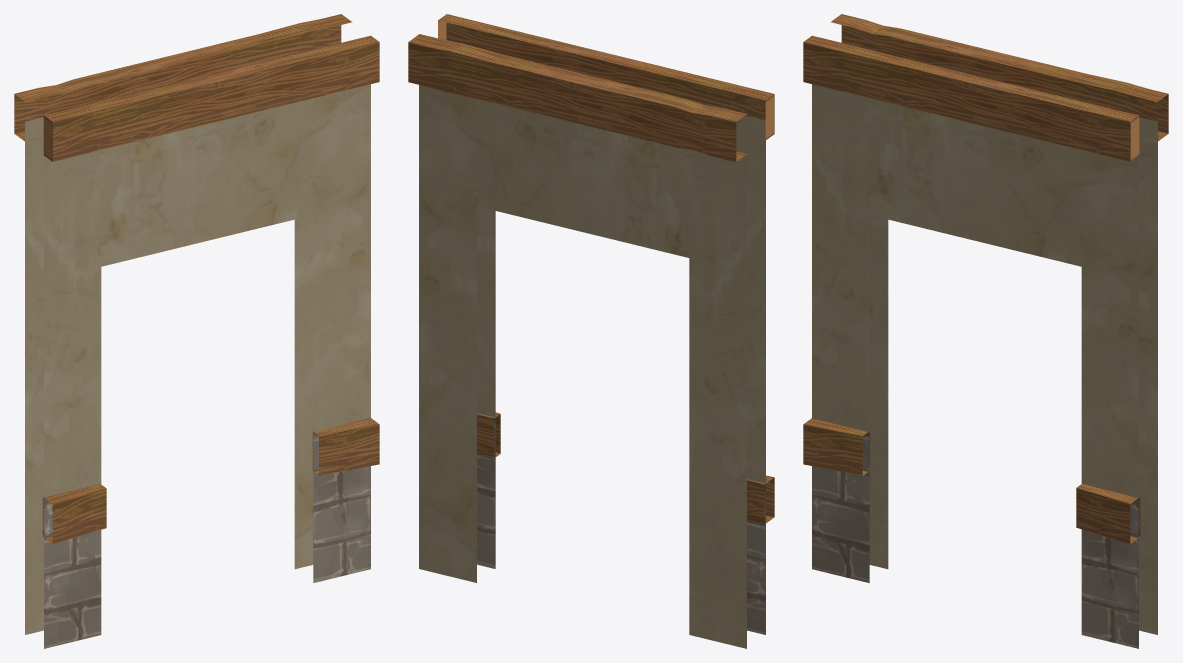
File: Wall_Plaster_Door_Flat.gltf
3 views of the same model, side by side, from view 1: azimuth 30°, elevation 25°; view 2: azimuth 150°, elevation 25°; view 3: azimuth 330°, elevation 25° (orthographic).
Visible parts, largest first — view 1: Wall_Plaster_Door_Flat; view 2: Wall_Plaster_Door_Flat; view 3: Wall_Plaster_Door_Flat.
Part boxes in pixels (box(x1,y1,x2,y2)): Wall_Plaster_Door_Flat: box(14, 14, 379, 648); Wall_Plaster_Door_Flat: box(408, 14, 774, 648); Wall_Plaster_Door_Flat: box(803, 14, 1168, 648).
Size of the model in its own units: 2 by 3.12 by 0.4065.
3 materials, 3 textured.
